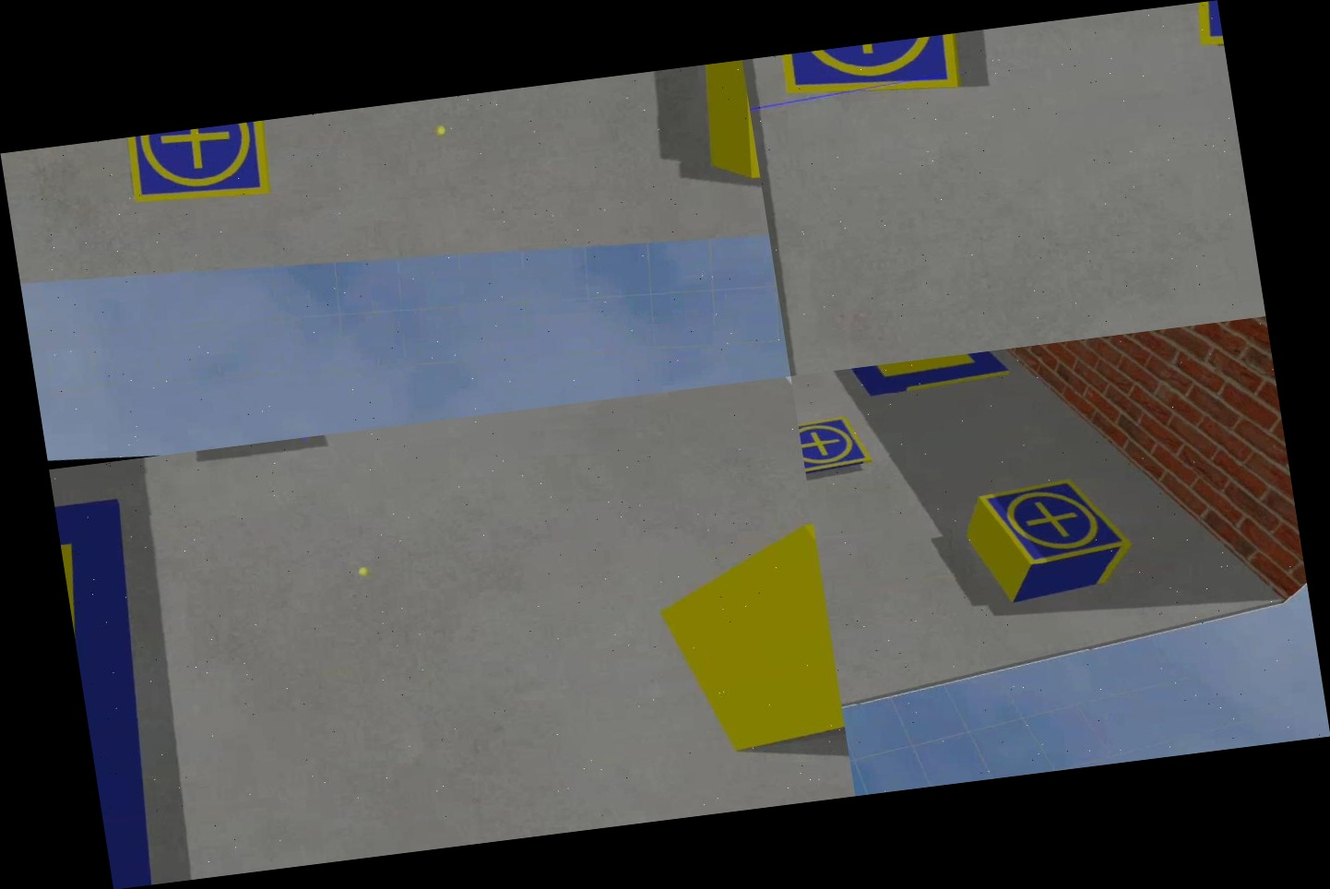large_base: (812, 349, 1017, 414)
small_base: (966, 464, 1142, 583), (767, 31, 979, 113), (115, 119, 284, 215), (797, 406, 877, 483)
